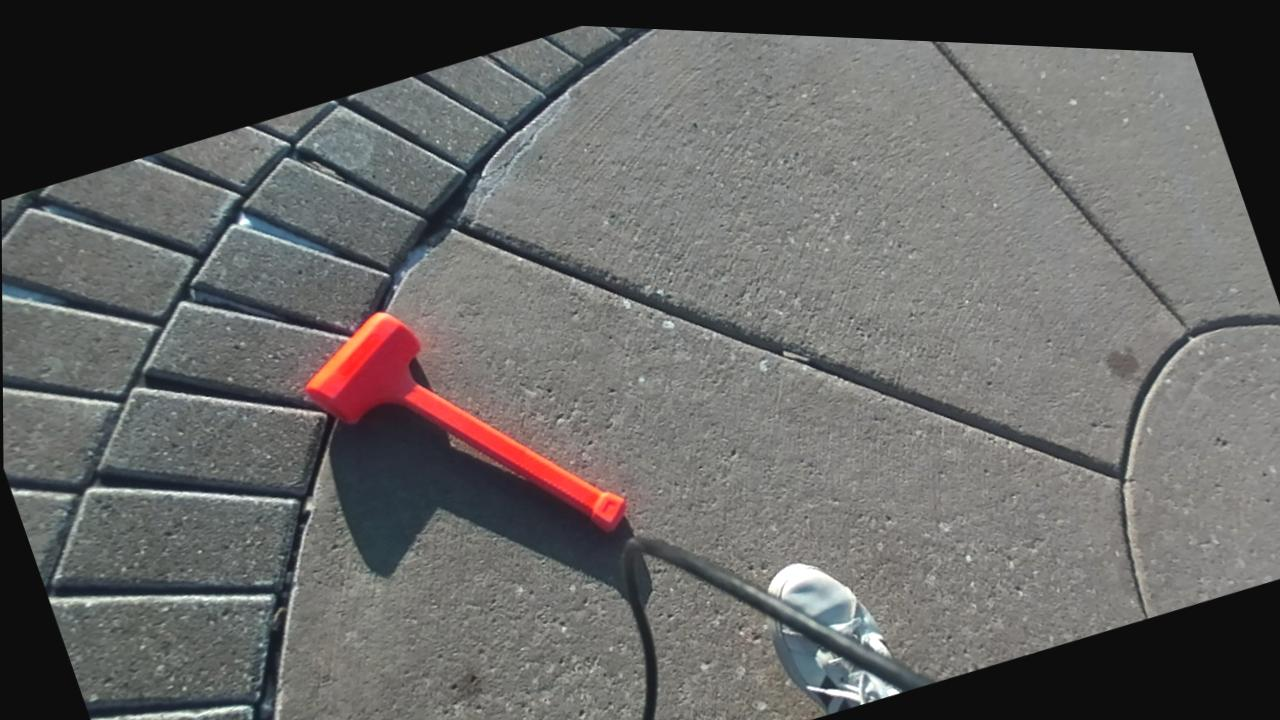mallet: (307, 312, 625, 530)
